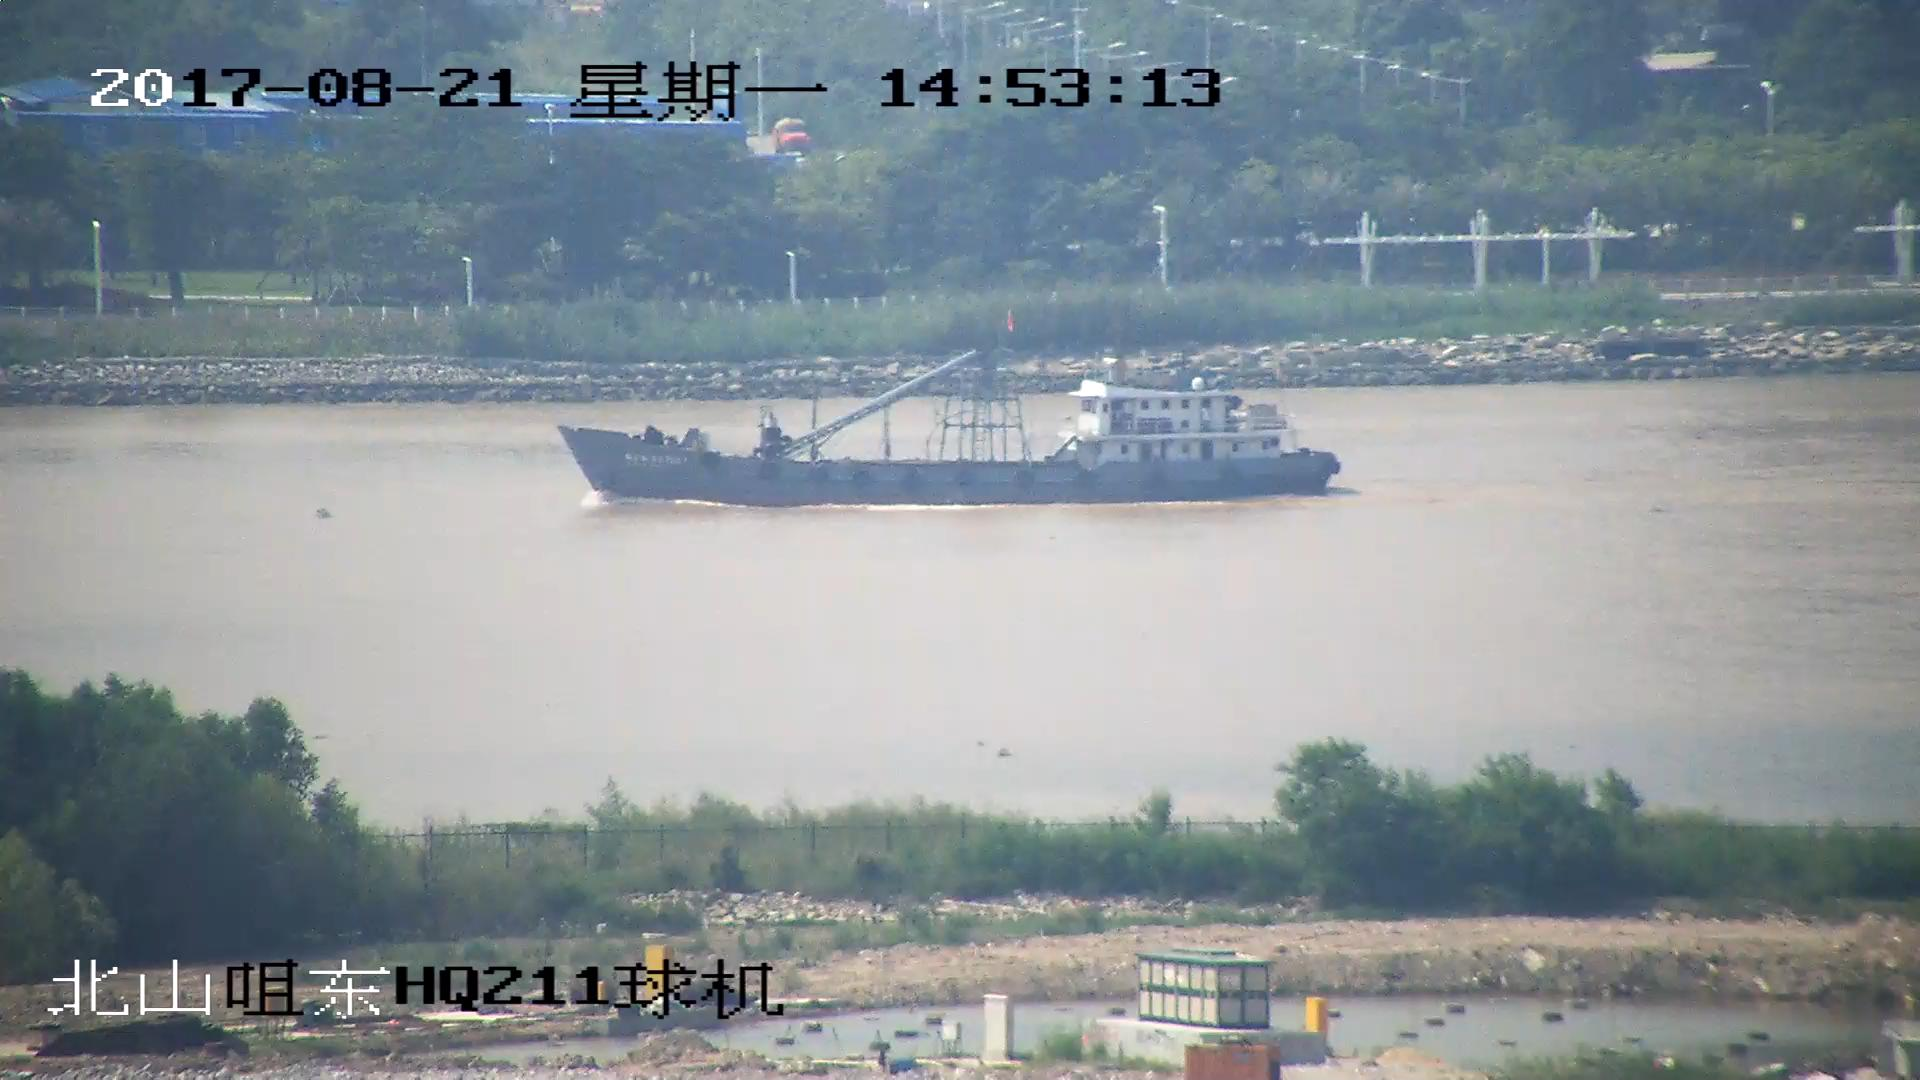fishing boat: (559, 291, 1335, 508)
